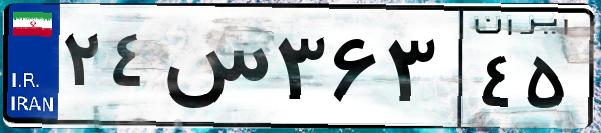2: (57, 26, 110, 100)
3: (270, 28, 330, 110), (385, 28, 445, 110)
4: (475, 38, 525, 113), (110, 28, 158, 98)
5: (525, 38, 570, 115)
6: (330, 28, 385, 110)
س: (158, 20, 270, 120)
